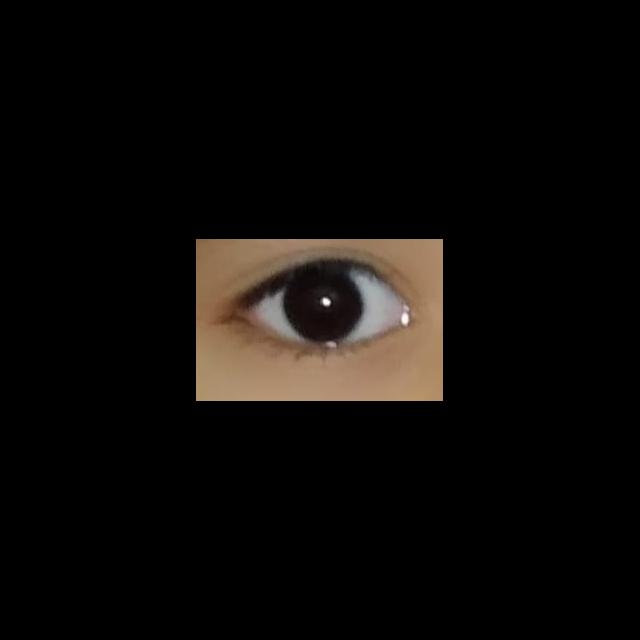eye: (249, 266, 403, 345)
iris: (285, 270, 363, 343)
